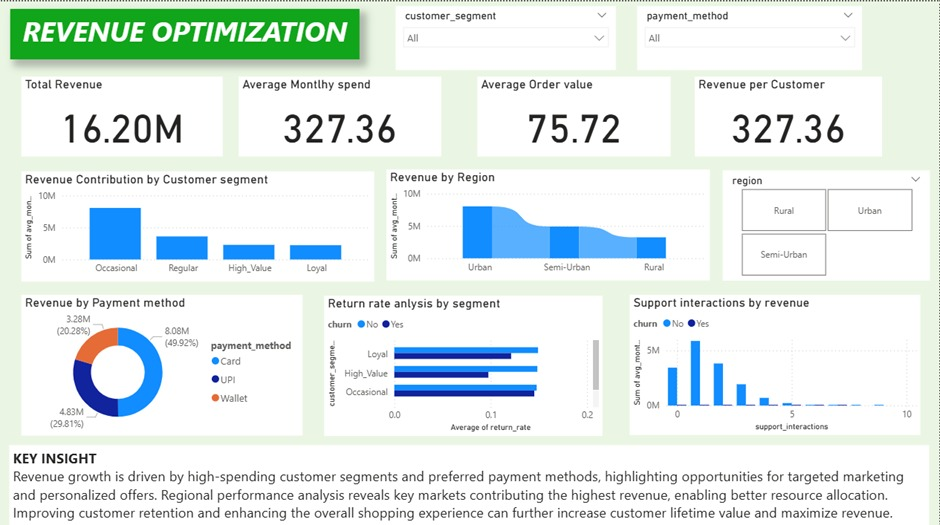

Layout of this report page (visuals, bound fields, positions):
{"tool":"powerbi","page":{"name":"Revenue optimization","canvas":[1280,720],"ordinal":1},"visuals":[{"type":"card","title":"Total Revenue","fields":{"Values":["Sum(churn column.avg_monthly_spend)"]},"box":[29.5,102.6,274.4,109],"z":0},{"type":"card","title":"Average Montlhy spend","fields":{"Values":["Avg(churn column.avg_monthly_spend)"]},"box":[325.6,102.6,275.6,109],"z":1000},{"type":"card","title":"Average Order value","fields":{"Values":["Avg(churn column.avg_order_value)"]},"box":[650,102.6,262.8,109],"z":2000},{"type":"card","title":"Revenue per Customer","fields":{"Values":["churn column.Revenue Per Customer"]},"box":[947.4,102.6,255.1,109],"z":3000},{"type":"textbox","box":[13.5,9.8,475.7,68.5],"z":4000},{"type":"clusteredColumnChart","title":"Revenue Contribution by Customer segment","fields":{"Category":["churn column.customer_segment"],"Y":["Sum(churn column.avg_monthly_spend)"]},"box":[29.3,231.1,480.6,150.4],"z":5000},{"type":"ribbonChart","title":"Revenue by Region","fields":{"Category":["churn column.region"],"Y":["Sum(churn column.avg_monthly_spend)"]},"box":[526.9,229.5,441,151.3],"z":6000},{"type":"donutChart","title":"Revenue by Payment method","fields":{"Category":["churn column.payment_method"],"Y":["Sum(churn column.avg_monthly_spend)"]},"box":[29.5,400,383.3,192.3],"z":7000},{"type":"clusteredBarChart","title":"Return rate anlysis by segment","fields":{"Category":["churn column.customer_segment"],"Y":["Avg(churn column.return_rate)"],"Series":["churn column.churn"]},"box":[442.3,401.3,379.5,191],"z":8000},{"type":"clusteredColumnChart","title":"Support interactions by revenue","fields":{"Category":["churn column.support_interactions"],"Series":["churn column.churn"],"Y":["Sum(churn column.avg_monthly_spend)"]},"box":[857.7,400,396.2,191],"z":9000},{"type":"slicer","fields":{"Values":["churn column.region"]},"box":[984.6,230.8,282.1,150],"z":10000},{"type":"slicer","fields":{"Values":["churn column.customer_segment"]},"box":[539.7,6.4,300,87.2],"z":11000},{"type":"slicer","fields":{"Values":["churn column.payment_method"]},"box":[867.9,6.4,306.4,87.2],"z":12000},{"type":"textbox","box":[12.8,605.1,1253.8,115.4],"z":13000}]}

Visuals, with their boxes in screenshot pixels (x1, y1, x2, y2), scaled from the page's 1280x720 canvas onto the 940x525 screenshot:
"Total Revenue" card: [x1=22, y1=75, x2=223, y2=154]
"Average Montlhy spend" card: [x1=239, y1=75, x2=442, y2=154]
"Average Order value" card: [x1=477, y1=75, x2=670, y2=154]
"Revenue per Customer" card: [x1=696, y1=75, x2=883, y2=154]
textbox: [x1=10, y1=7, x2=359, y2=57]
"Revenue Contribution by Customer segment" clusteredColumnChart: [x1=22, y1=169, x2=374, y2=278]
"Revenue by Region" ribbonChart: [x1=387, y1=167, x2=711, y2=278]
"Revenue by Payment method" donutChart: [x1=22, y1=292, x2=303, y2=432]
"Return rate anlysis by segment" clusteredBarChart: [x1=325, y1=293, x2=604, y2=432]
"Support interactions by revenue" clusteredColumnChart: [x1=630, y1=292, x2=921, y2=431]
slicer - churn column.region: [x1=723, y1=168, x2=930, y2=278]
slicer - churn column.customer_segment: [x1=396, y1=5, x2=617, y2=68]
slicer - churn column.payment_method: [x1=637, y1=5, x2=862, y2=68]
textbox: [x1=9, y1=441, x2=930, y2=524]
